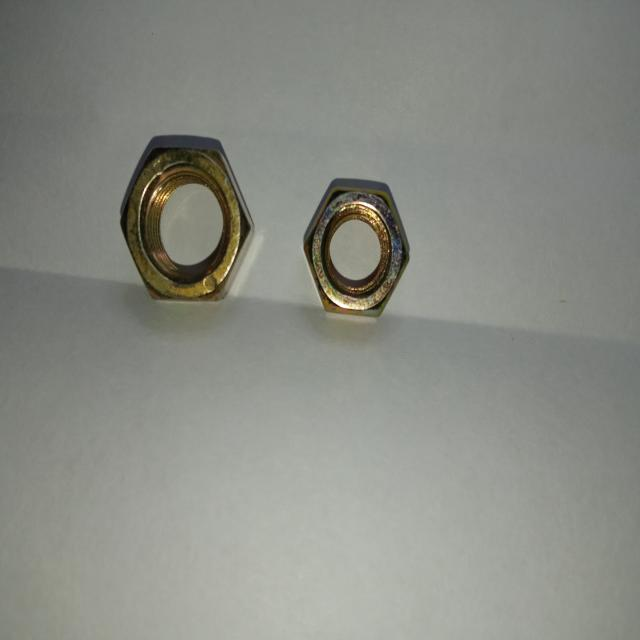m10: (121, 143, 249, 303)
m8: (305, 188, 404, 317)
